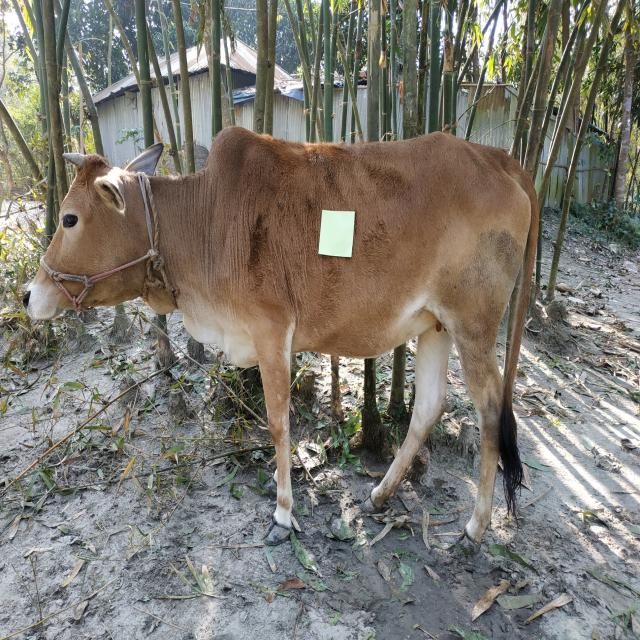badan_sapi: (248, 144, 506, 360)
sapi: (19, 120, 546, 568)
